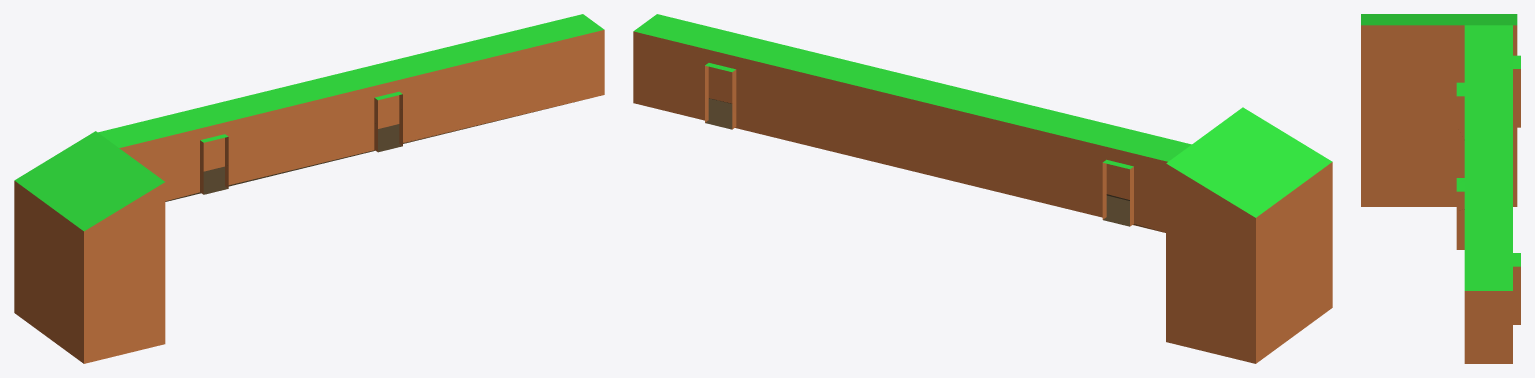
File: Floor1_MainHallMesh.gltf
3 views of the same model, side by side, from view 1: azimuth 30°, elevation 25°; view 2: azimuth 150°, elevation 25°; view 3: azimuth 270°, elevation 25° (orthographic). The views are drawn at different scales.
Visible parts, largest first — view 1: Floor1_MainHallMesh2; view 2: Floor1_MainHallMesh2; view 3: Floor1_MainHallMesh2.
Part boxes in pixels (x1,y1,x2,y2): Floor1_MainHallMesh2: (14,14,604,363); Floor1_MainHallMesh2: (633,14,1332,363); Floor1_MainHallMesh2: (1361,14,1520,363).
Bounding box in the file's own units: 45.54 × 12.45 × 9.93.
